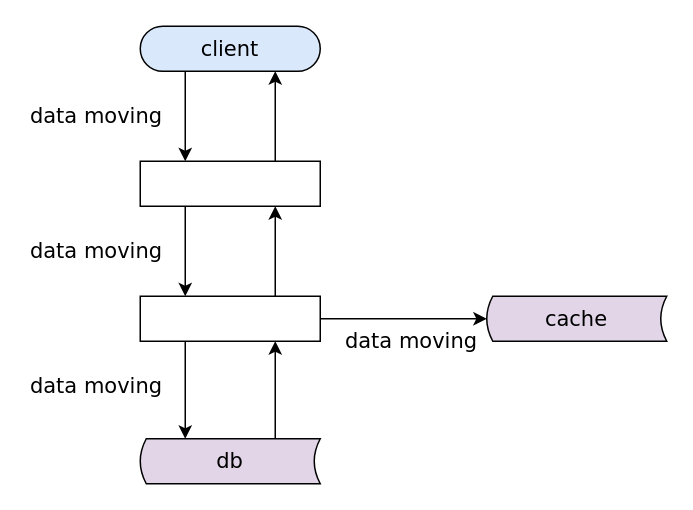
Image size: 693x510. Some labels were removed from this diagram. Each missing label, with the centre of its shape:
service: the point at 229,318
web-server: the point at 229,183
